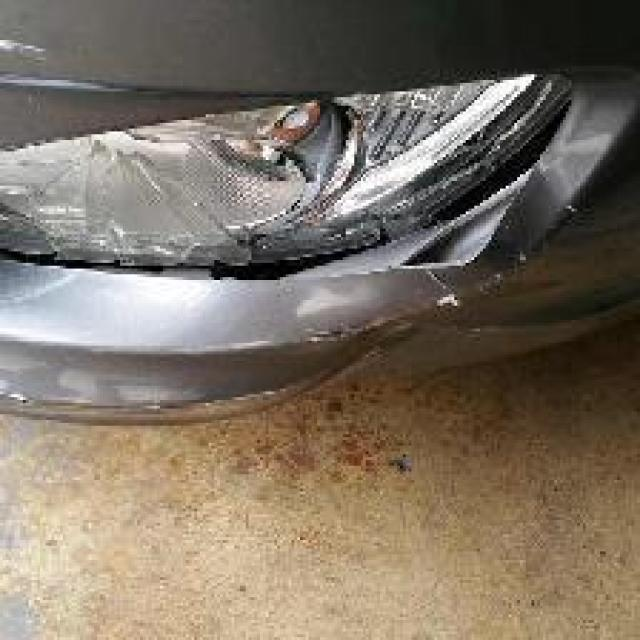damaged: (6, 94, 614, 283)
